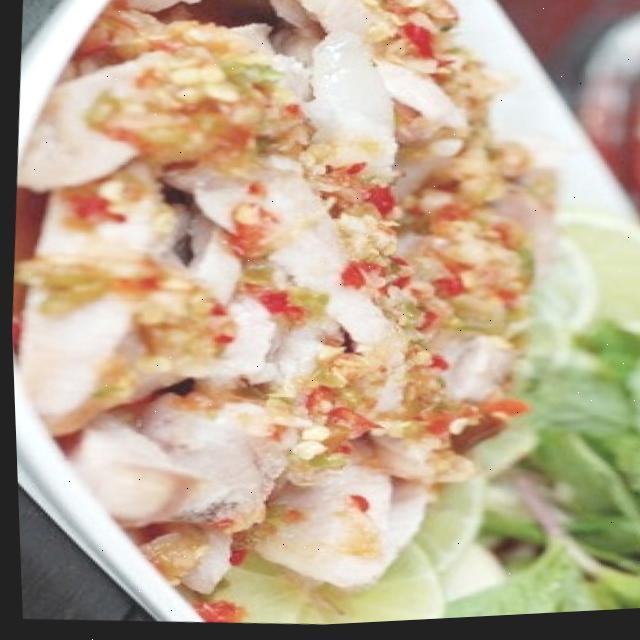猪肉菜式: (0, 0, 612, 631)
